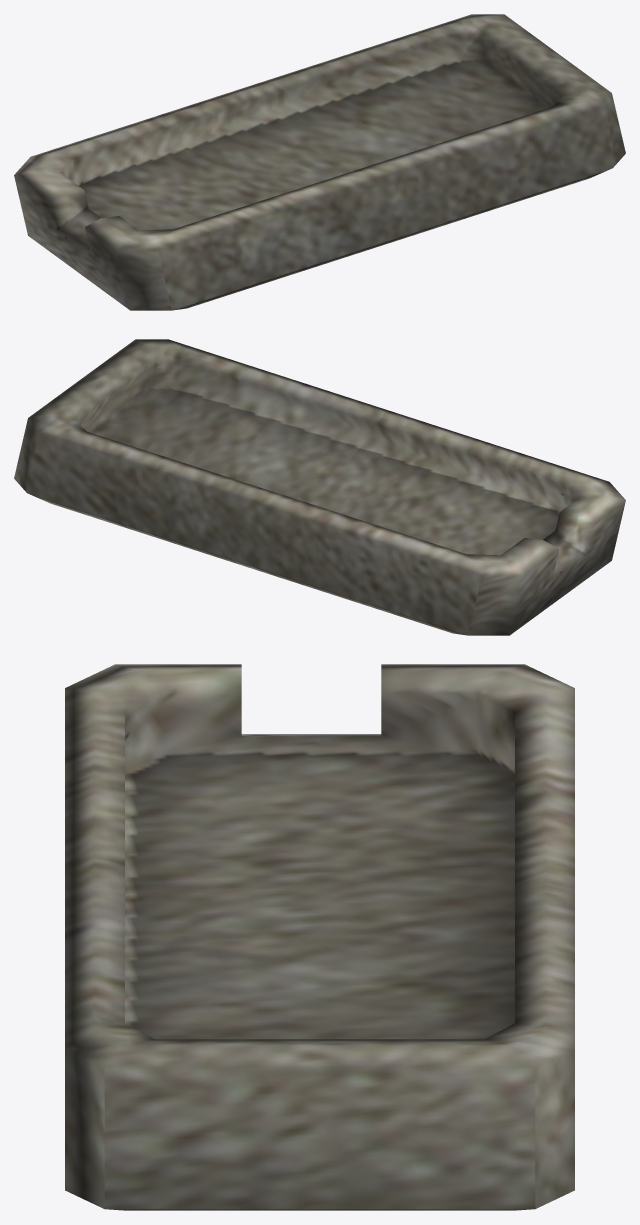
Rendered from Fountain_Trays_03.fbx.
3 views of the same model, one above another, from view 1: azimuth 30°, elevation 25°; view 2: azimuth 150°, elevation 25°; view 3: azimuth 270°, elevation 25° (orthographic). The views are drawn at different scales.
Visible parts, largest first — view 1: polySurface2; view 2: polySurface2; view 3: polySurface2.
Part boxes in pixels (x1,y1,x2,y2): polySurface2: (14,14,625,310); polySurface2: (14,339,625,635); polySurface2: (65,664,574,1210).
Bounding box in the file's own units: 1.74 × 0.3672 × 0.757.
1 material, 1 textured.
